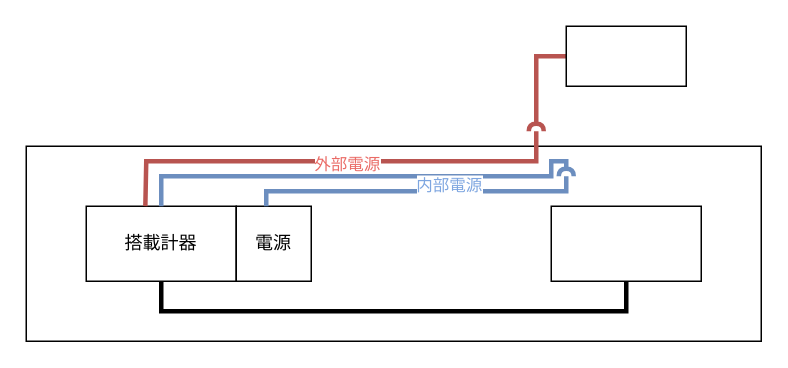
The diagram is 788 pixels wide and 368 high, and some of its shapes have lost their labels. The shapes that lost their labels are listed below. From the top down, each one's centre as x and y in pixels, then its label:
point (625, 55): 安定化電源
point (625, 243): ボールバルブ
